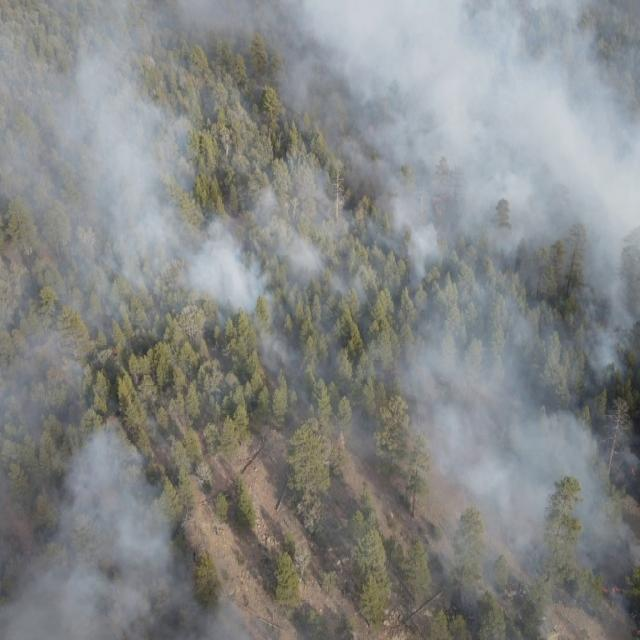fire: (599, 583, 626, 598), (111, 345, 120, 356), (628, 466, 636, 478), (635, 628, 640, 640)
smoke: (258, 0, 640, 375), (0, 1, 259, 317), (0, 315, 165, 640), (301, 372, 640, 482), (406, 484, 640, 638), (163, 539, 248, 640)
